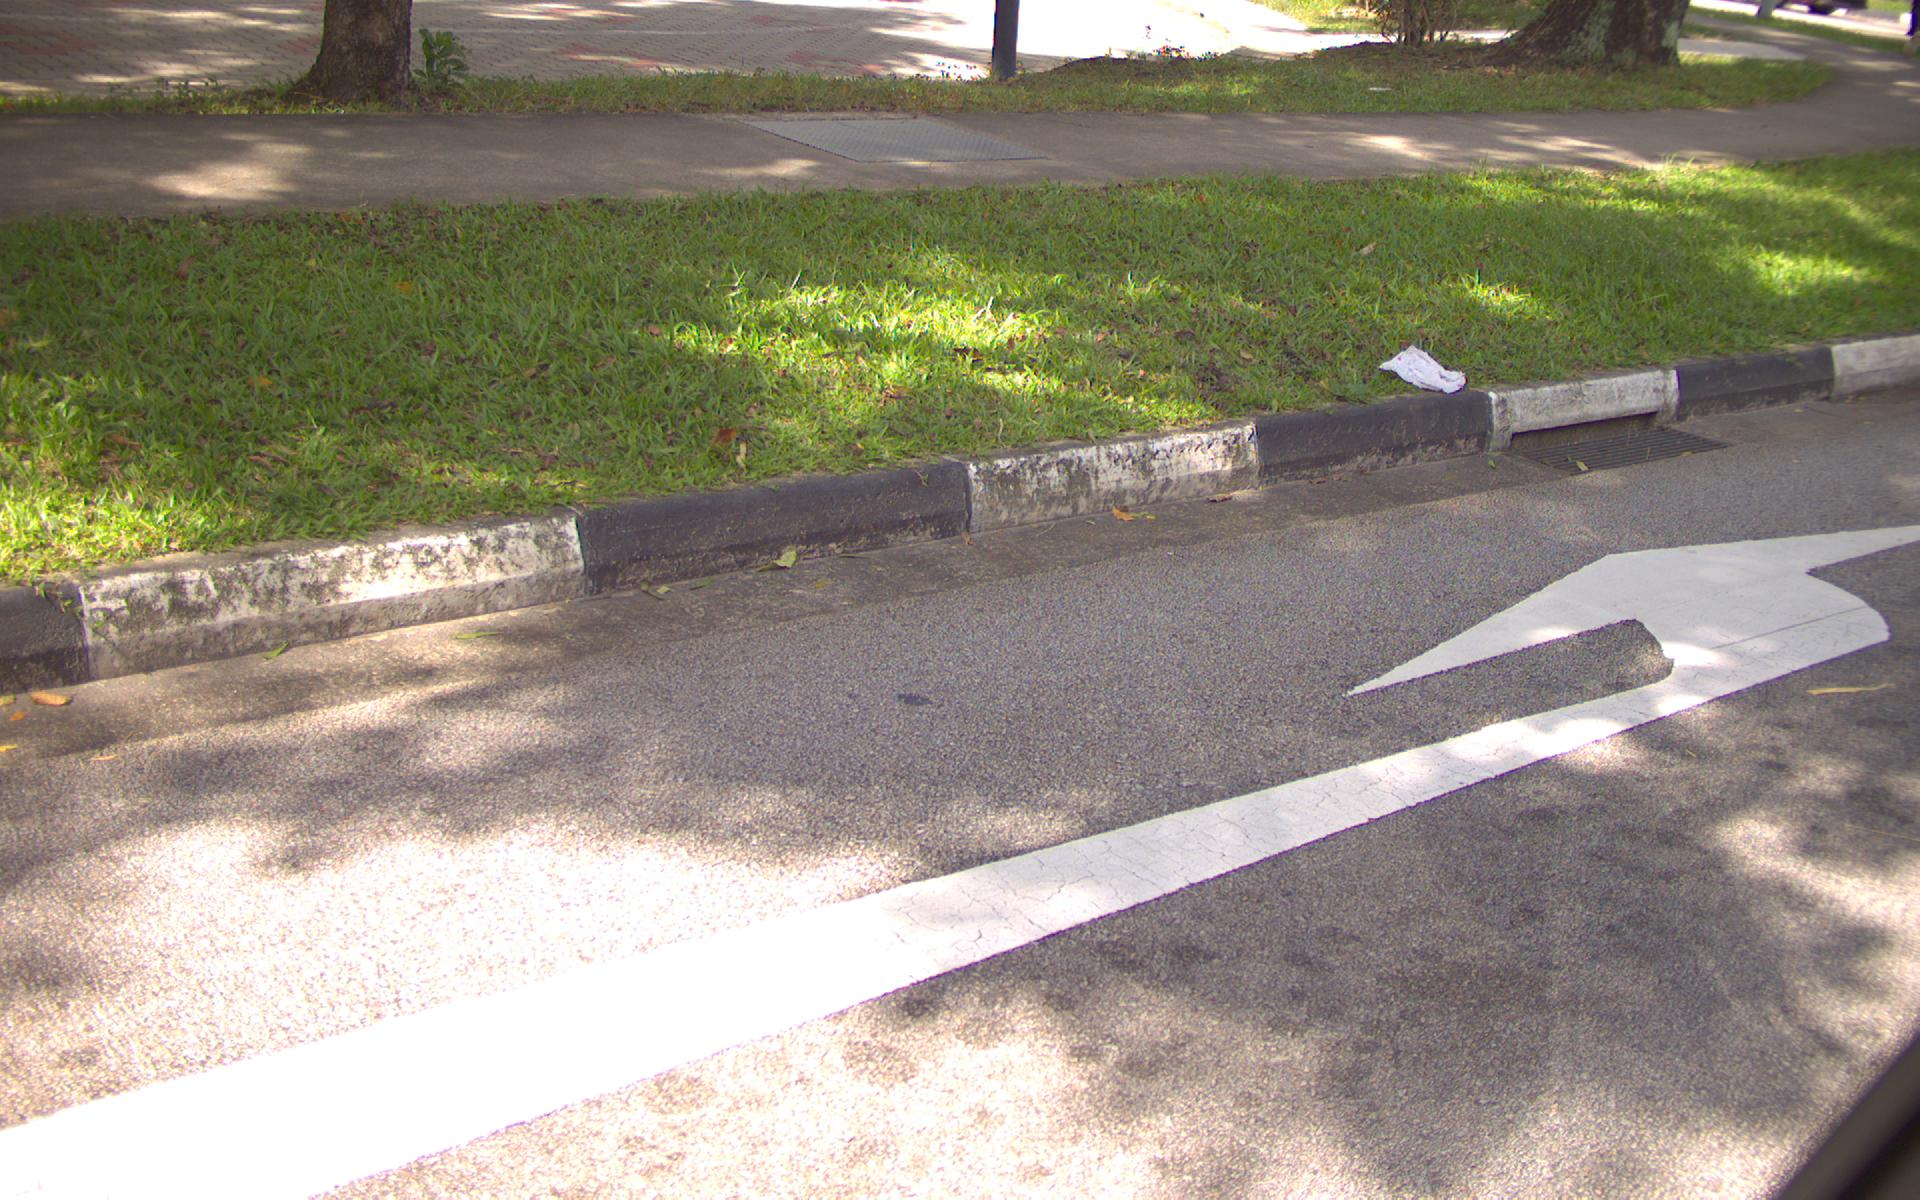curb_dic_low: (1480, 362, 1743, 478)
pathway_low: (6, 123, 1033, 189)
road_turf_low: (8, 216, 822, 471)
